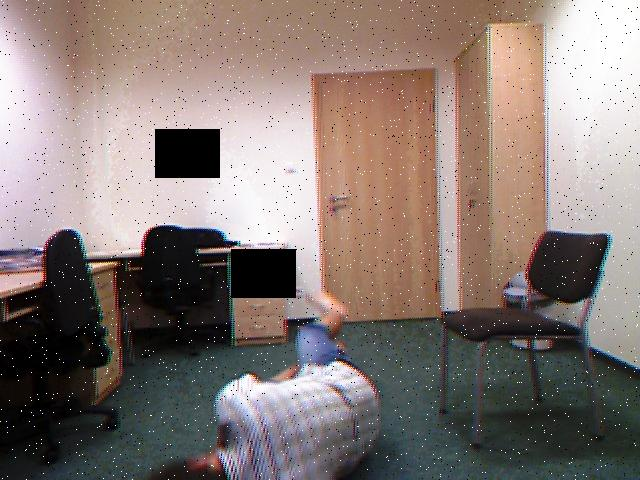fall: (155, 291, 380, 478)
